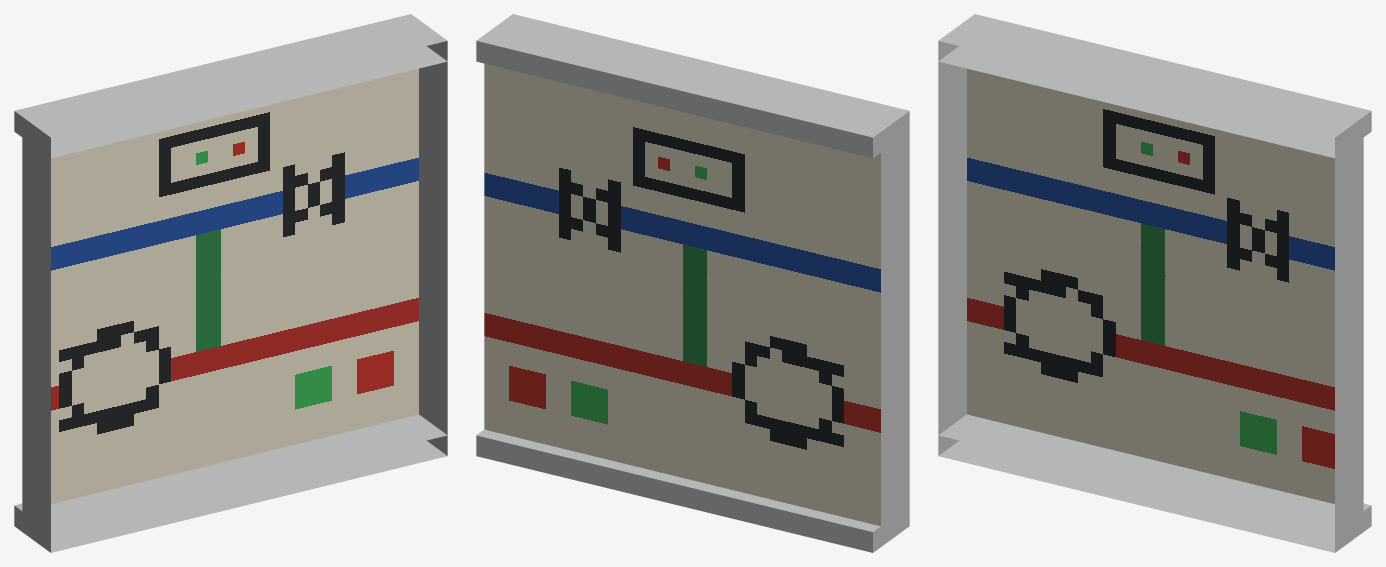
File: mimic_band_cream.obj
3 views of the same model, side by side, from view 1: azimuth 30°, elevation 25°; view 2: azimuth 150°, elevation 25°; view 3: azimuth 330°, elevation 25° (orthographic).
Parts seen in each view (by area): view 1: mimic_band_cream; view 2: mimic_band_cream; view 3: mimic_band_cream.
Part boxes in pixels (x1,y1,x2,y2): mimic_band_cream: (14, 14, 447, 552); mimic_band_cream: (476, 14, 909, 552); mimic_band_cream: (938, 14, 1371, 552).
Bounding box in the file's own units: 1 × 1 × 0.16.
